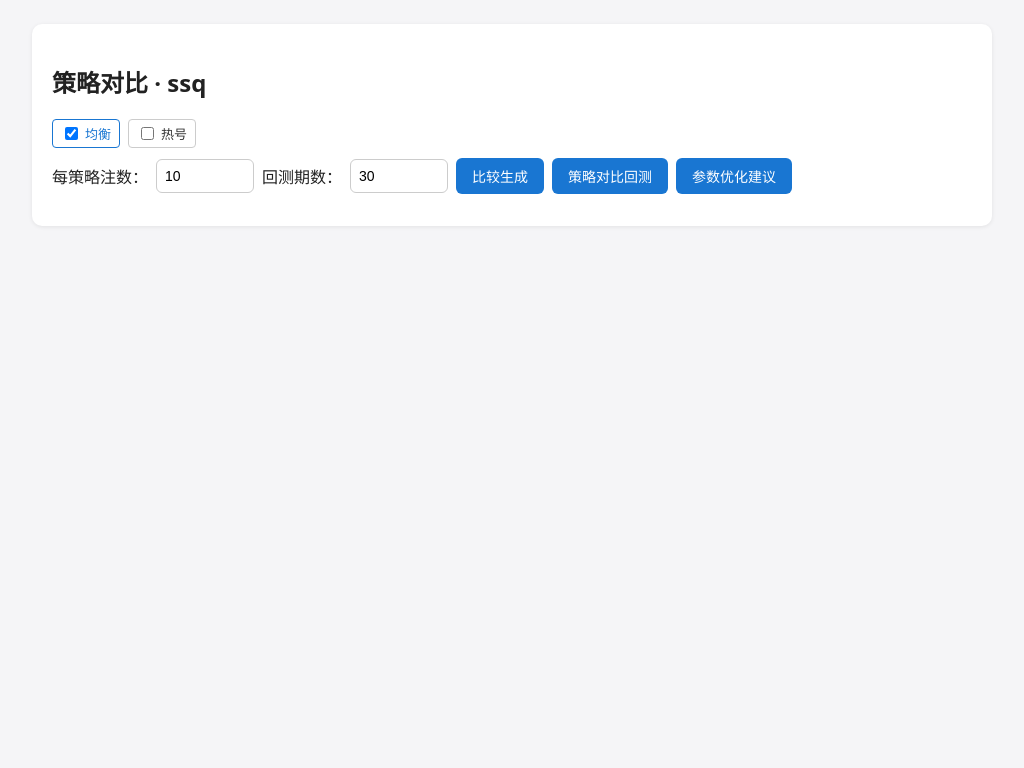
Compare › 选择两个策略时计算重叠度（Jaccard）
Click the checkbox labelled "热号": coordinates (148, 133) [141,127,154,140]
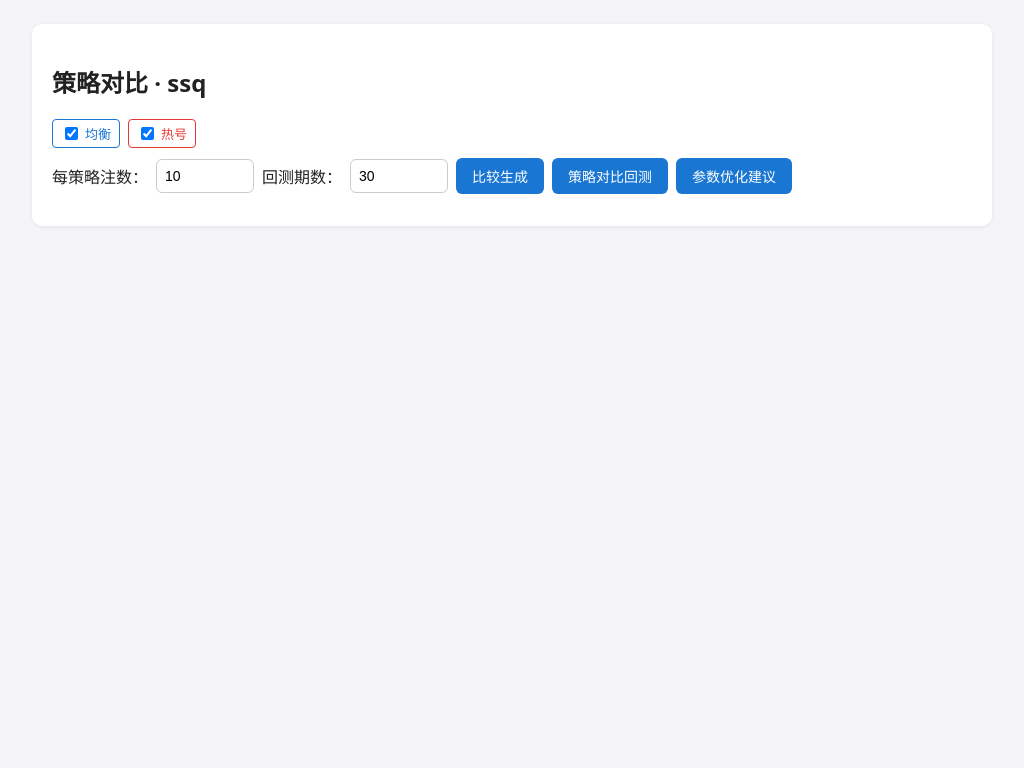
Click the button "比较生成": coordinates (500, 176) [456,158,544,194]
(page scrolled)
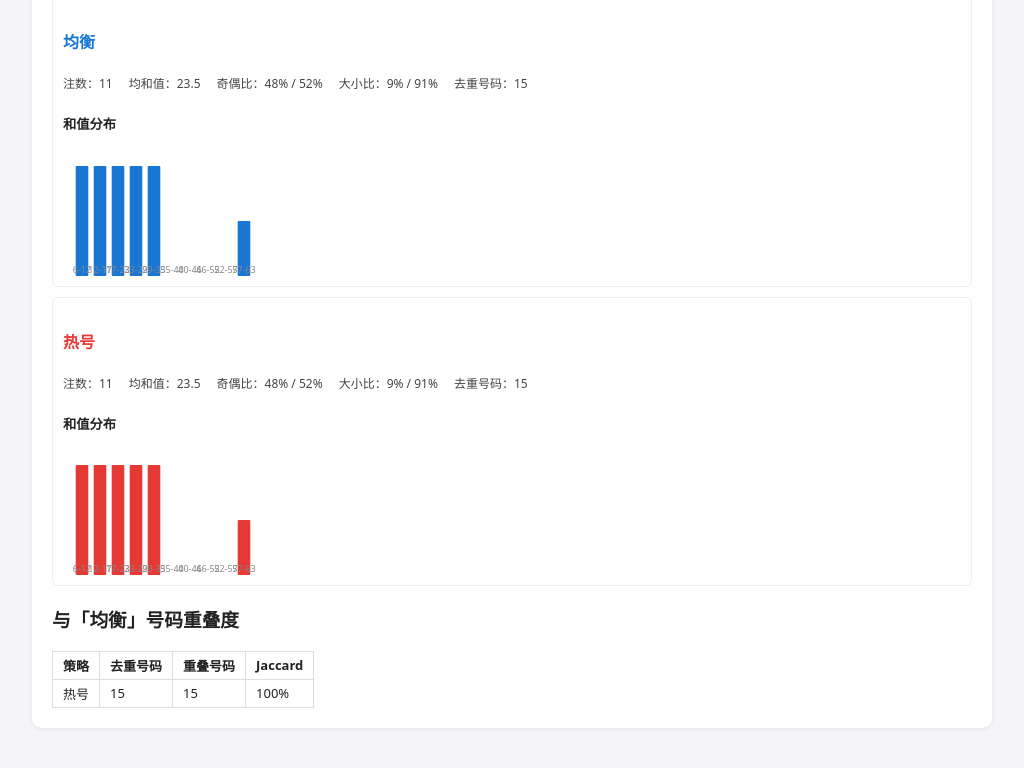
Expected: the table with class "ov-table" is shown, [52,651,314,708]
Expected: the text "Jaccard" is shown, [246,651,314,679]
